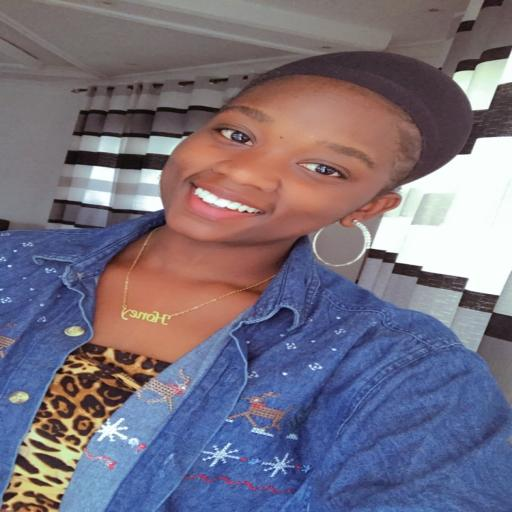LAURENE: (147, 47, 462, 259)
